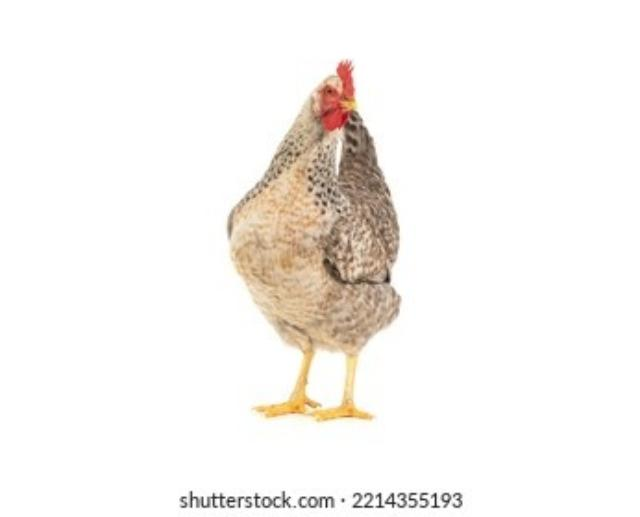Chicken: (227, 58, 401, 424)
